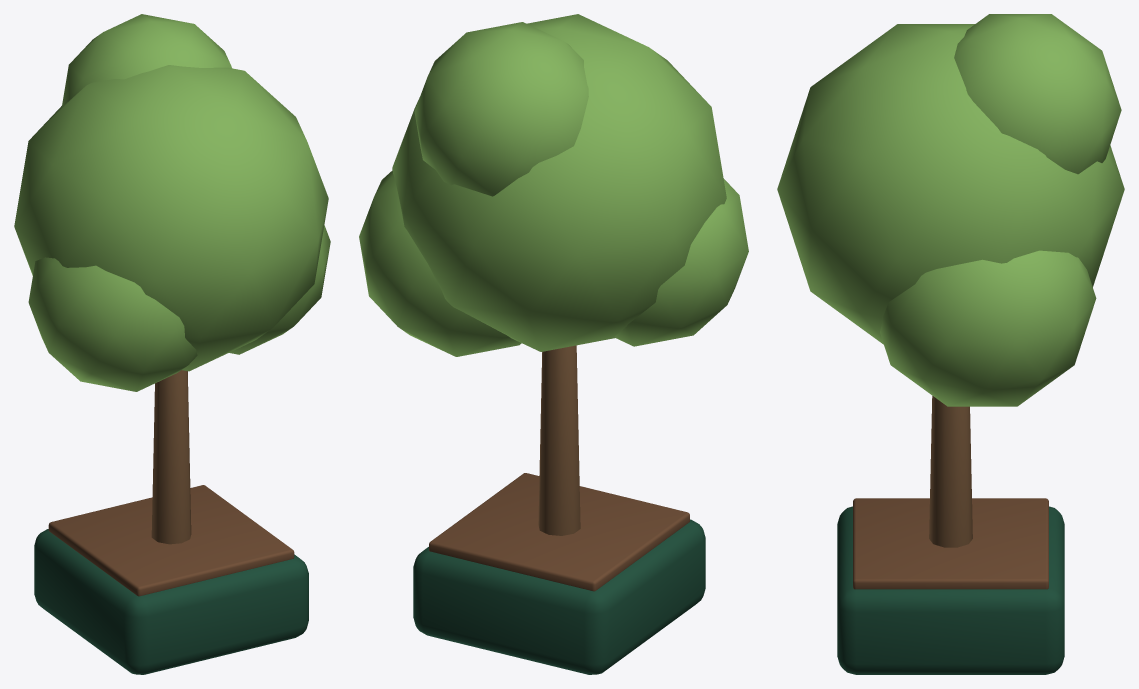
The model's file is prop_tree0.glb.
3 views of the same model, side by side, from view 1: azimuth 30°, elevation 25°; view 2: azimuth 150°, elevation 25°; view 3: azimuth 270°, elevation 25° (orthographic). The views are drawn at different scales.
Parts seen in each view (by area): view 1: tree0; view 2: tree0; view 3: tree0.
Part boxes in pixels (x1,y1,x2,y2): tree0: [14, 14, 330, 674]; tree0: [359, 14, 748, 674]; tree0: [777, 14, 1124, 674].
Bounding box in the file's own units: 1.2 × 2.17 × 1.1.
